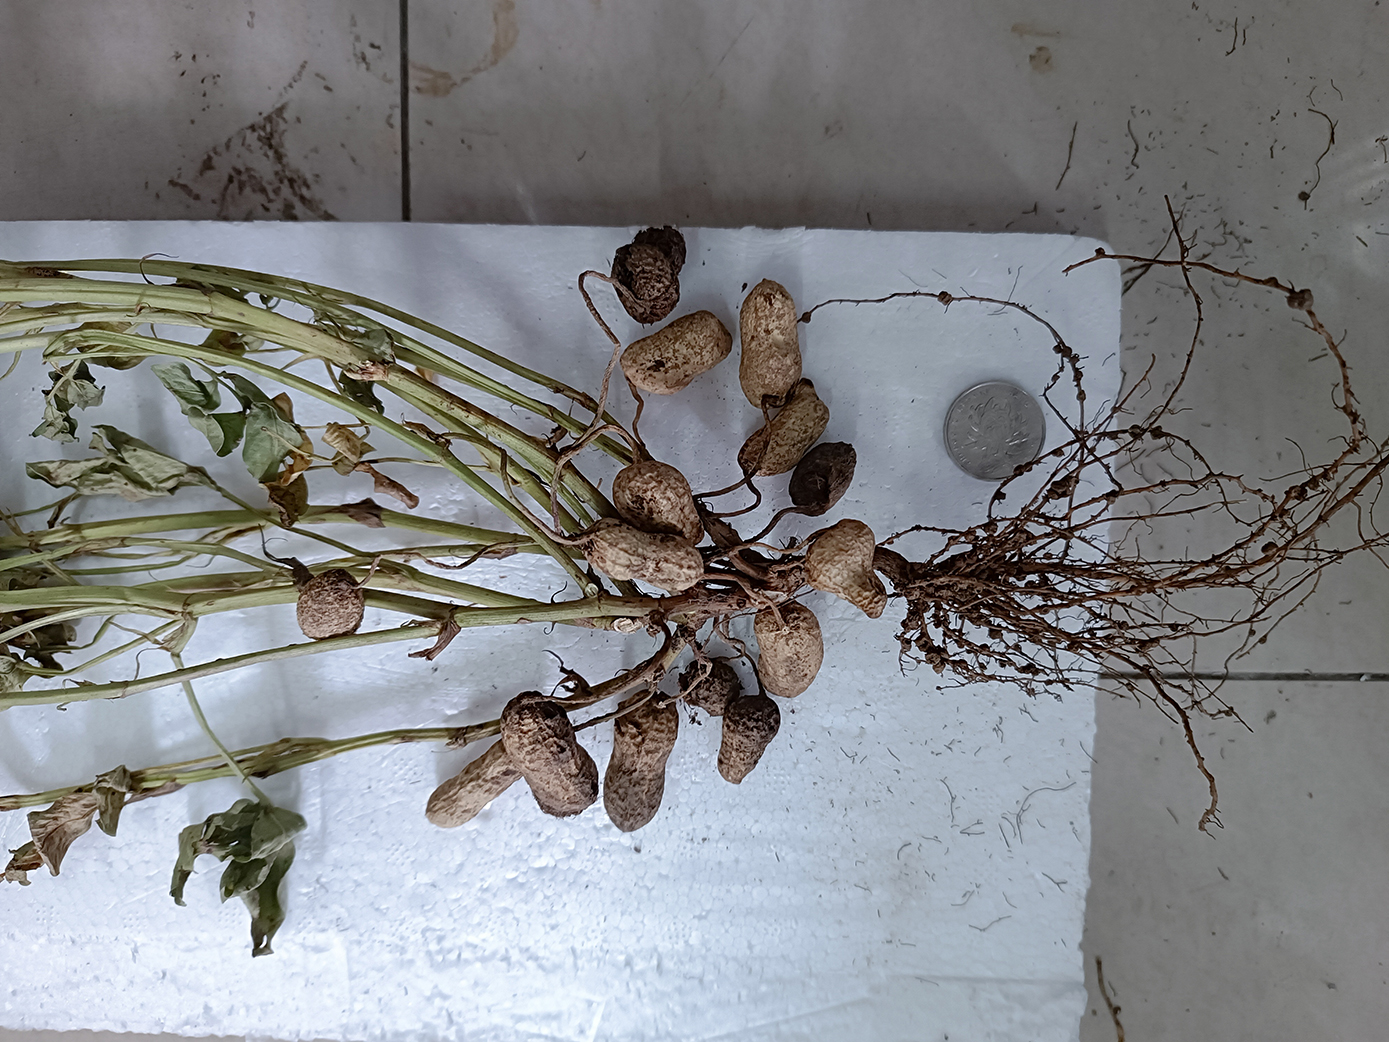h: (737, 380, 833, 478), (620, 313, 733, 396), (738, 281, 807, 410), (426, 741, 521, 827), (587, 520, 704, 590), (806, 518, 884, 620), (614, 463, 708, 544), (753, 602, 823, 699), (296, 568, 364, 639)
l: (498, 693, 598, 819), (603, 688, 680, 834), (612, 228, 685, 320), (718, 698, 779, 788), (788, 441, 855, 510), (682, 662, 736, 715)
